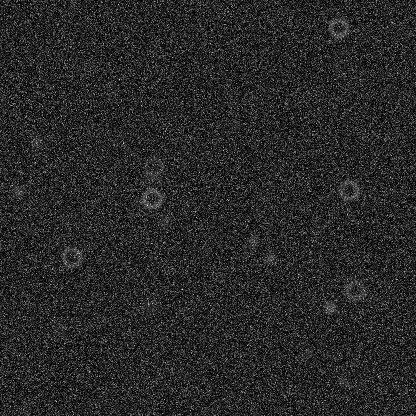Ring: (139, 186, 163, 210), (59, 245, 83, 269), (141, 154, 165, 178), (337, 178, 361, 202), (326, 15, 350, 39), (343, 278, 367, 302)
Spot: (10, 183, 26, 199), (298, 343, 314, 359), (156, 213, 172, 229), (141, 298, 157, 314), (143, 169, 159, 185), (349, 375, 365, 391), (334, 372, 350, 388), (243, 233, 259, 249), (28, 133, 44, 149), (321, 299, 337, 315), (262, 250, 278, 266), (250, 205, 266, 221), (49, 321, 65, 337)
